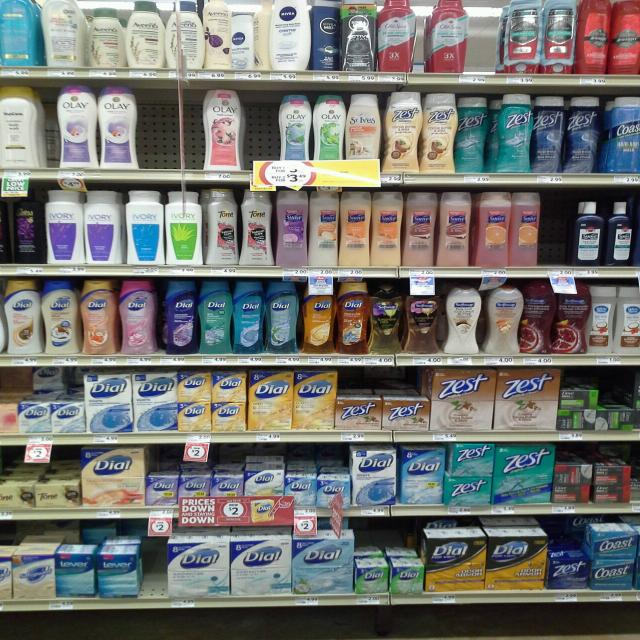empty: (138, 94, 204, 173), (238, 96, 284, 173), (541, 201, 574, 266), (470, 6, 499, 73), (136, 546, 170, 593)
